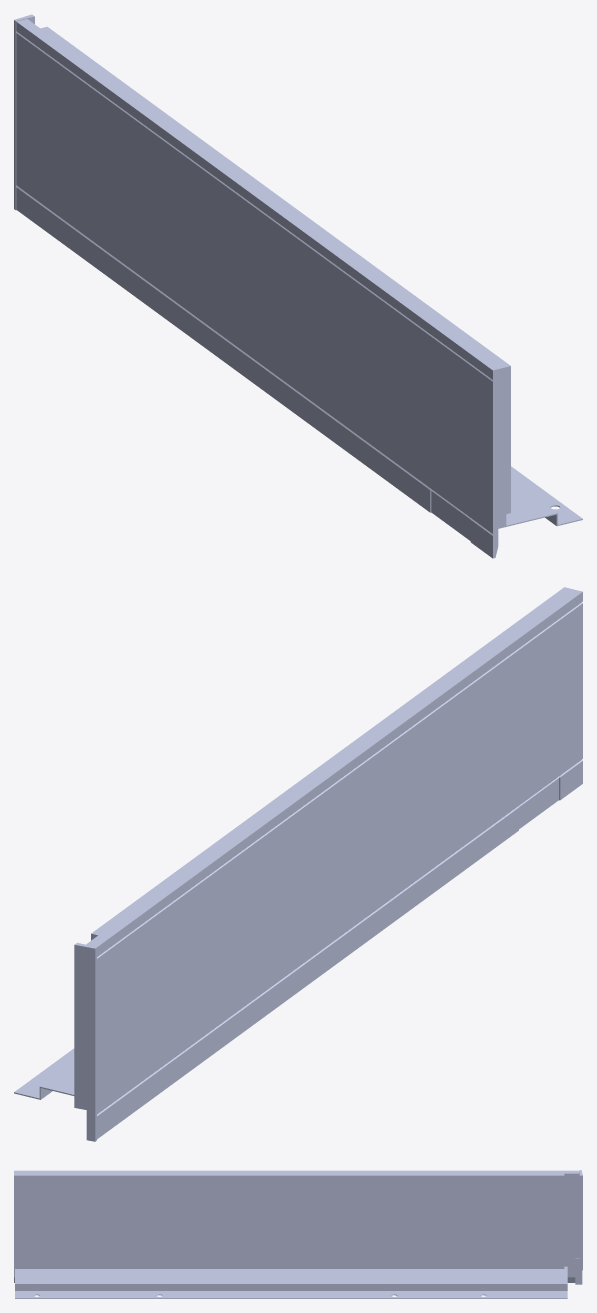
Rendered from lg-kava-K600-p.glb.
The picture shows the model from 3 angles, top to bottom: view 1: azimuth 30°, elevation 25°; view 2: azimuth 150°, elevation 25°; view 3: azimuth 270°, elevation 25°; orthographic projection. The views are drawn at different scales.
Parts seen in each view (by area): view 1: 44586647; view 2: 44586647; view 3: 44586647.
Part boxes in pixels (x1,y1,x2,y2): 44586647: (14, 14, 582, 558); 44586647: (14, 587, 582, 1141); 44586647: (14, 1170, 582, 1298).
Bounding box in the file's own units: 0.0653 × 0.1292 × 0.5935.
